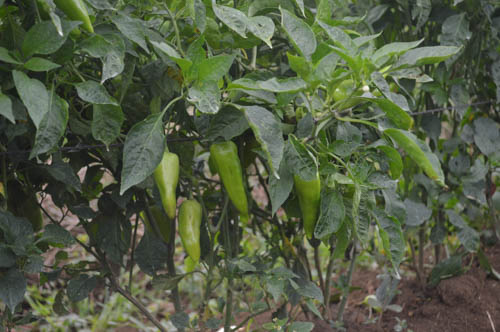ChiliPepper: (211, 141, 247, 214), (288, 169, 323, 241), (174, 199, 207, 267), (154, 151, 181, 221)
